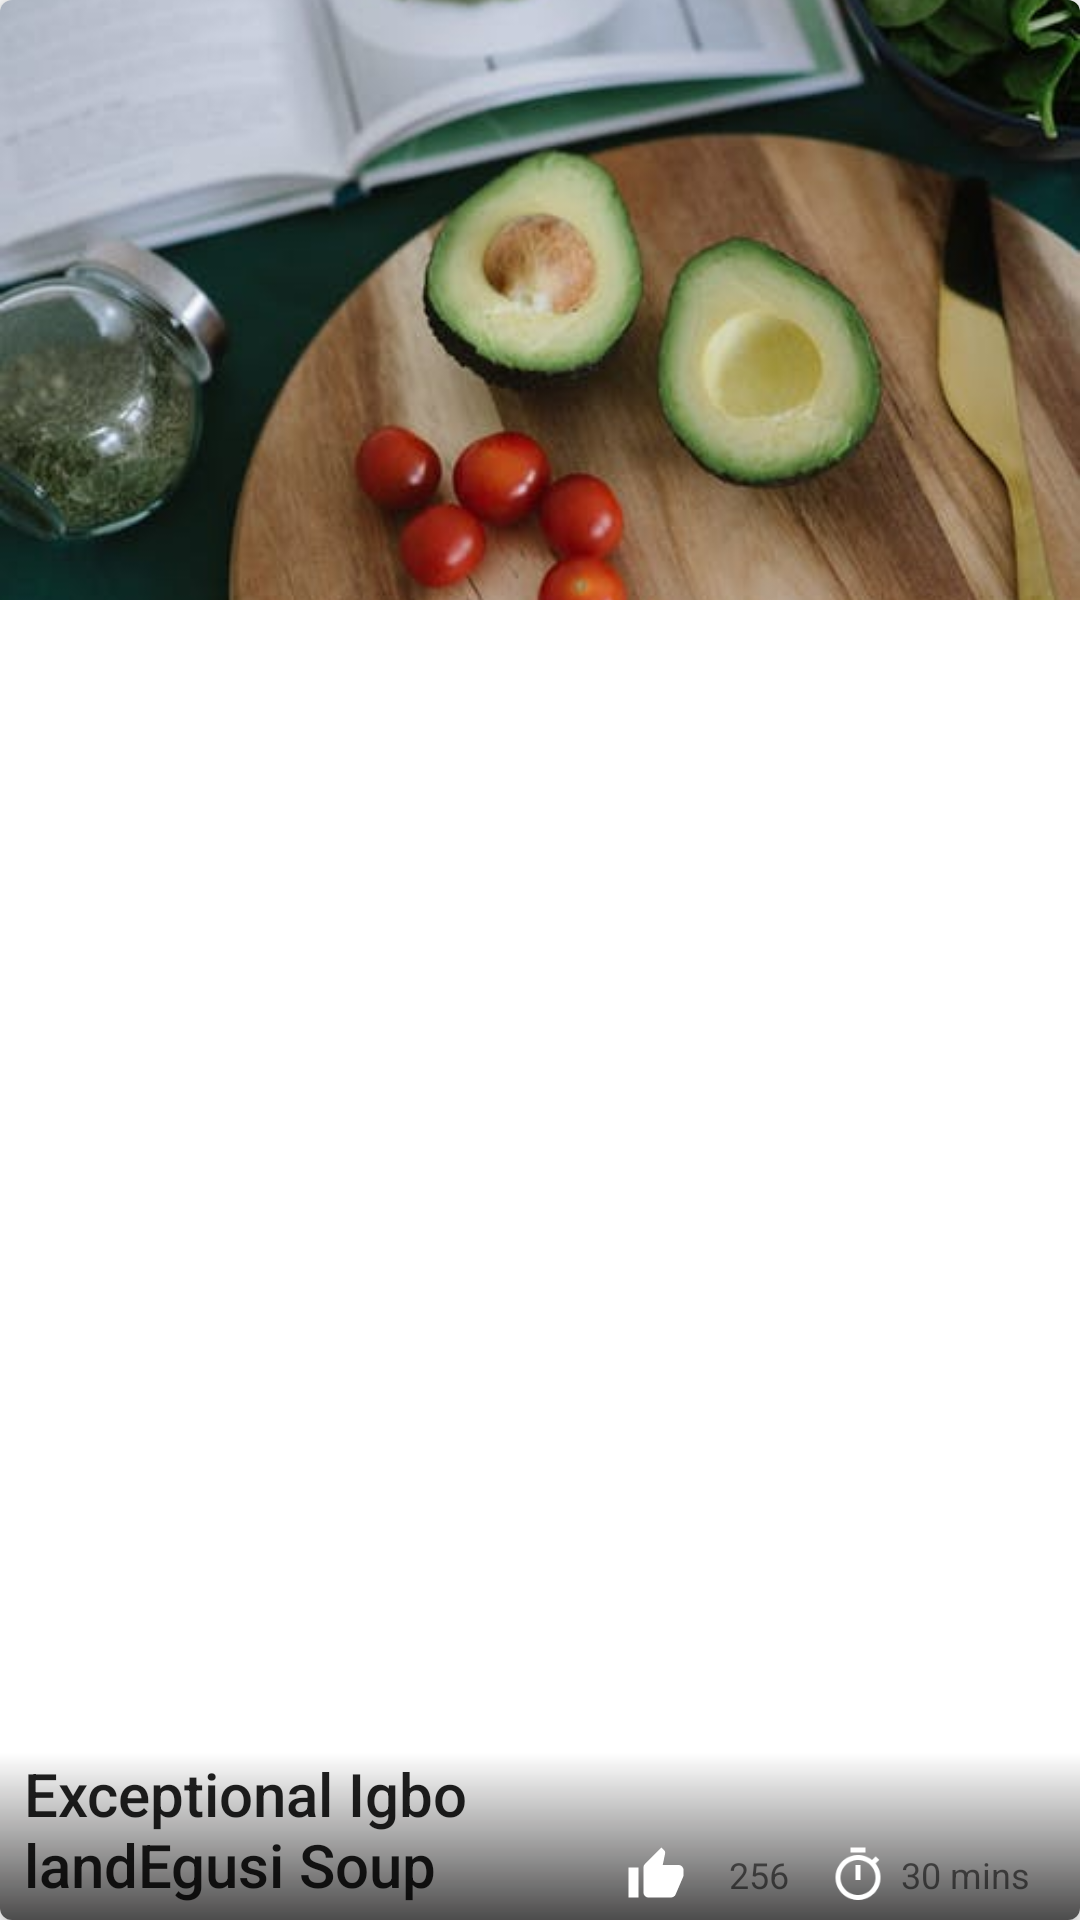

Where to tap for icons on this 1080 x 1920 app screen, as (x=x, y=y):
thumb: (x=656, y=1875)
timer: (x=858, y=1875)
